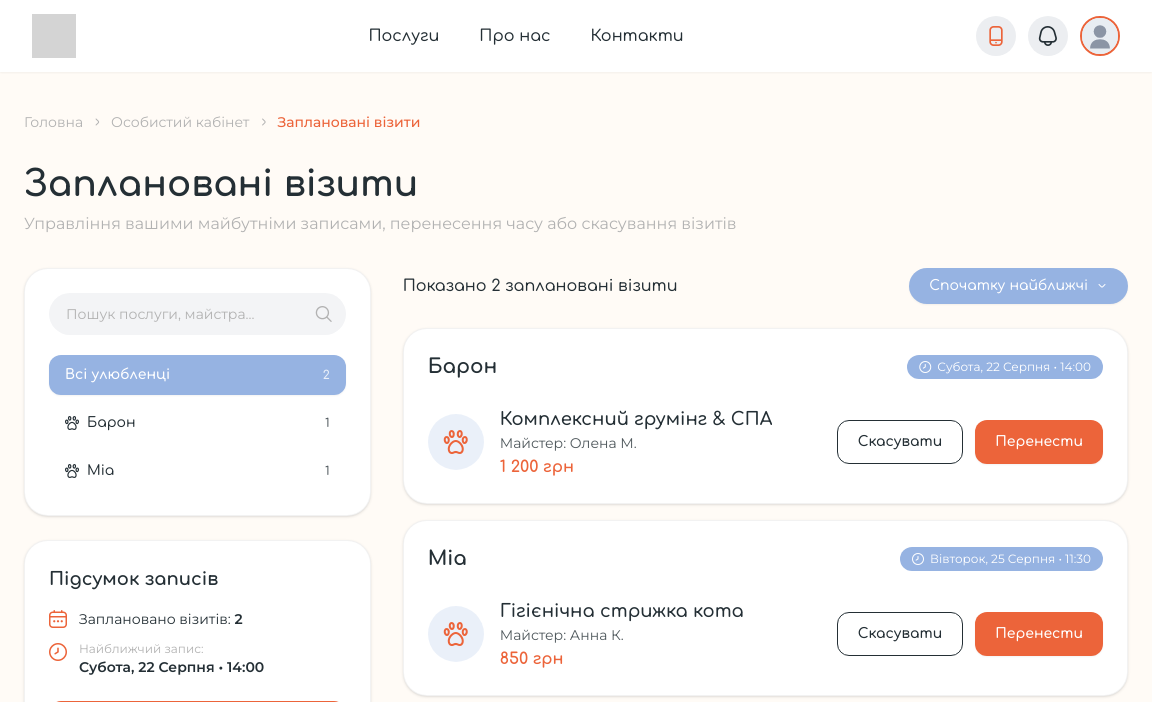
it: ProfileUpcomingVisitsPage › filters visits by search query for service and master
Type "Анна" into the field with placeholder "Пошук послуги, майстра...".
click(197, 314); type("Анна")  # box [49, 293, 346, 335]
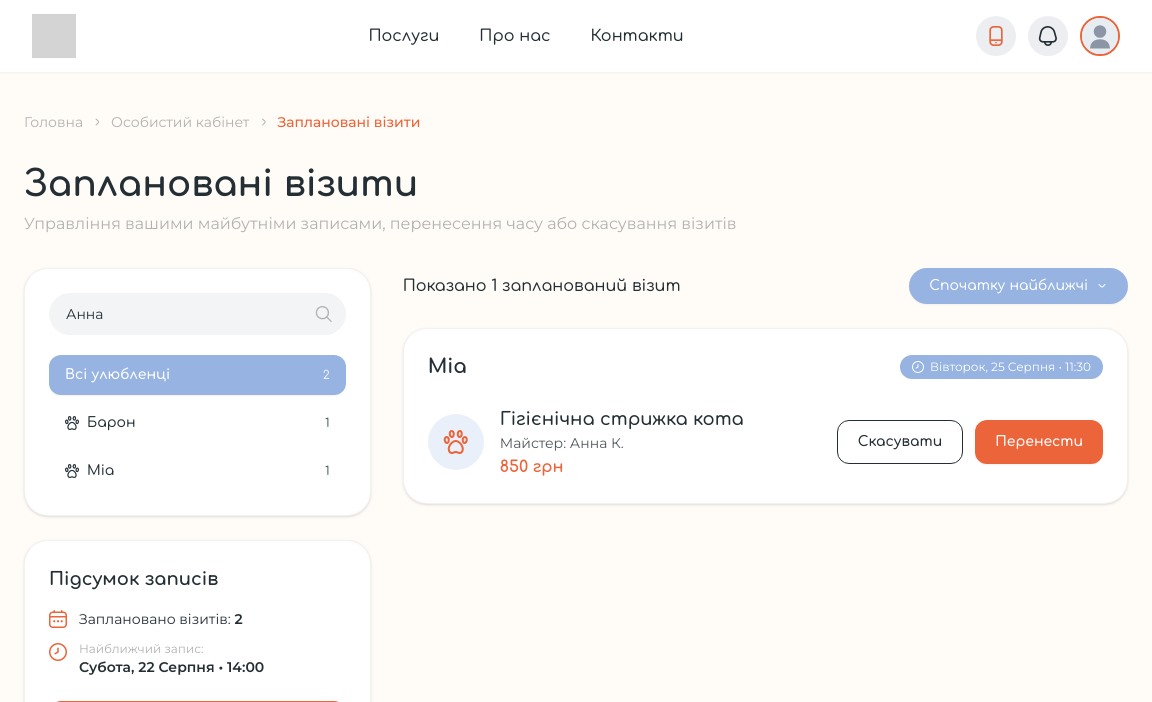
Expected: the element with test id "upcoming-visit-item-v2" is shown, [403, 328, 1128, 504]
Expected: the text "Показано 1 запланований візит" is shown, [403, 274, 680, 298]
Expected: the element with test id "upcoming-visit-item-v1" is gone
Replace the text in the field with placeholder "Пошук послуги, майстра..." with "неіснуюча послуга" at x=197, y=314, box [49, 293, 346, 335]
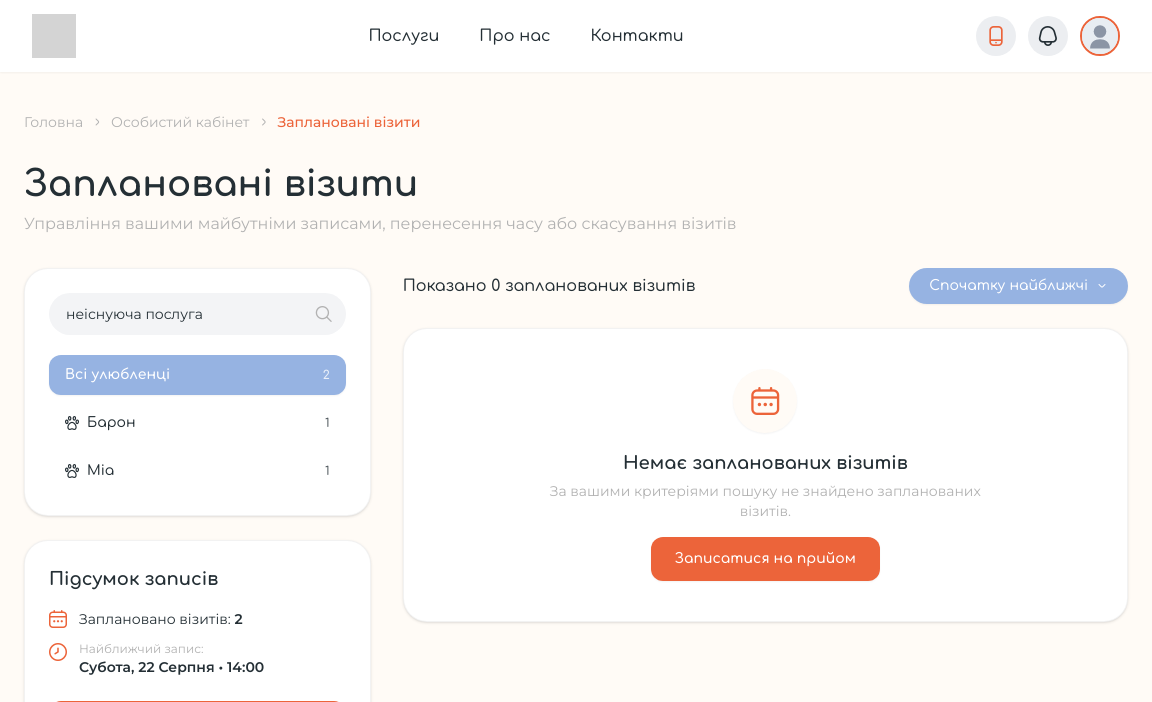
Expected: the text "Показано 0 запланованих візитів" is shown, [403, 274, 695, 298]
Expected: the element with test id "no-upcoming-visits" is shown, [403, 328, 1128, 622]
